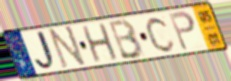B: (108, 18, 145, 61)
C: (145, 15, 177, 54)
H: (80, 22, 121, 65)
J: (34, 29, 60, 73)
N: (47, 24, 88, 70)
P: (167, 10, 198, 53)
